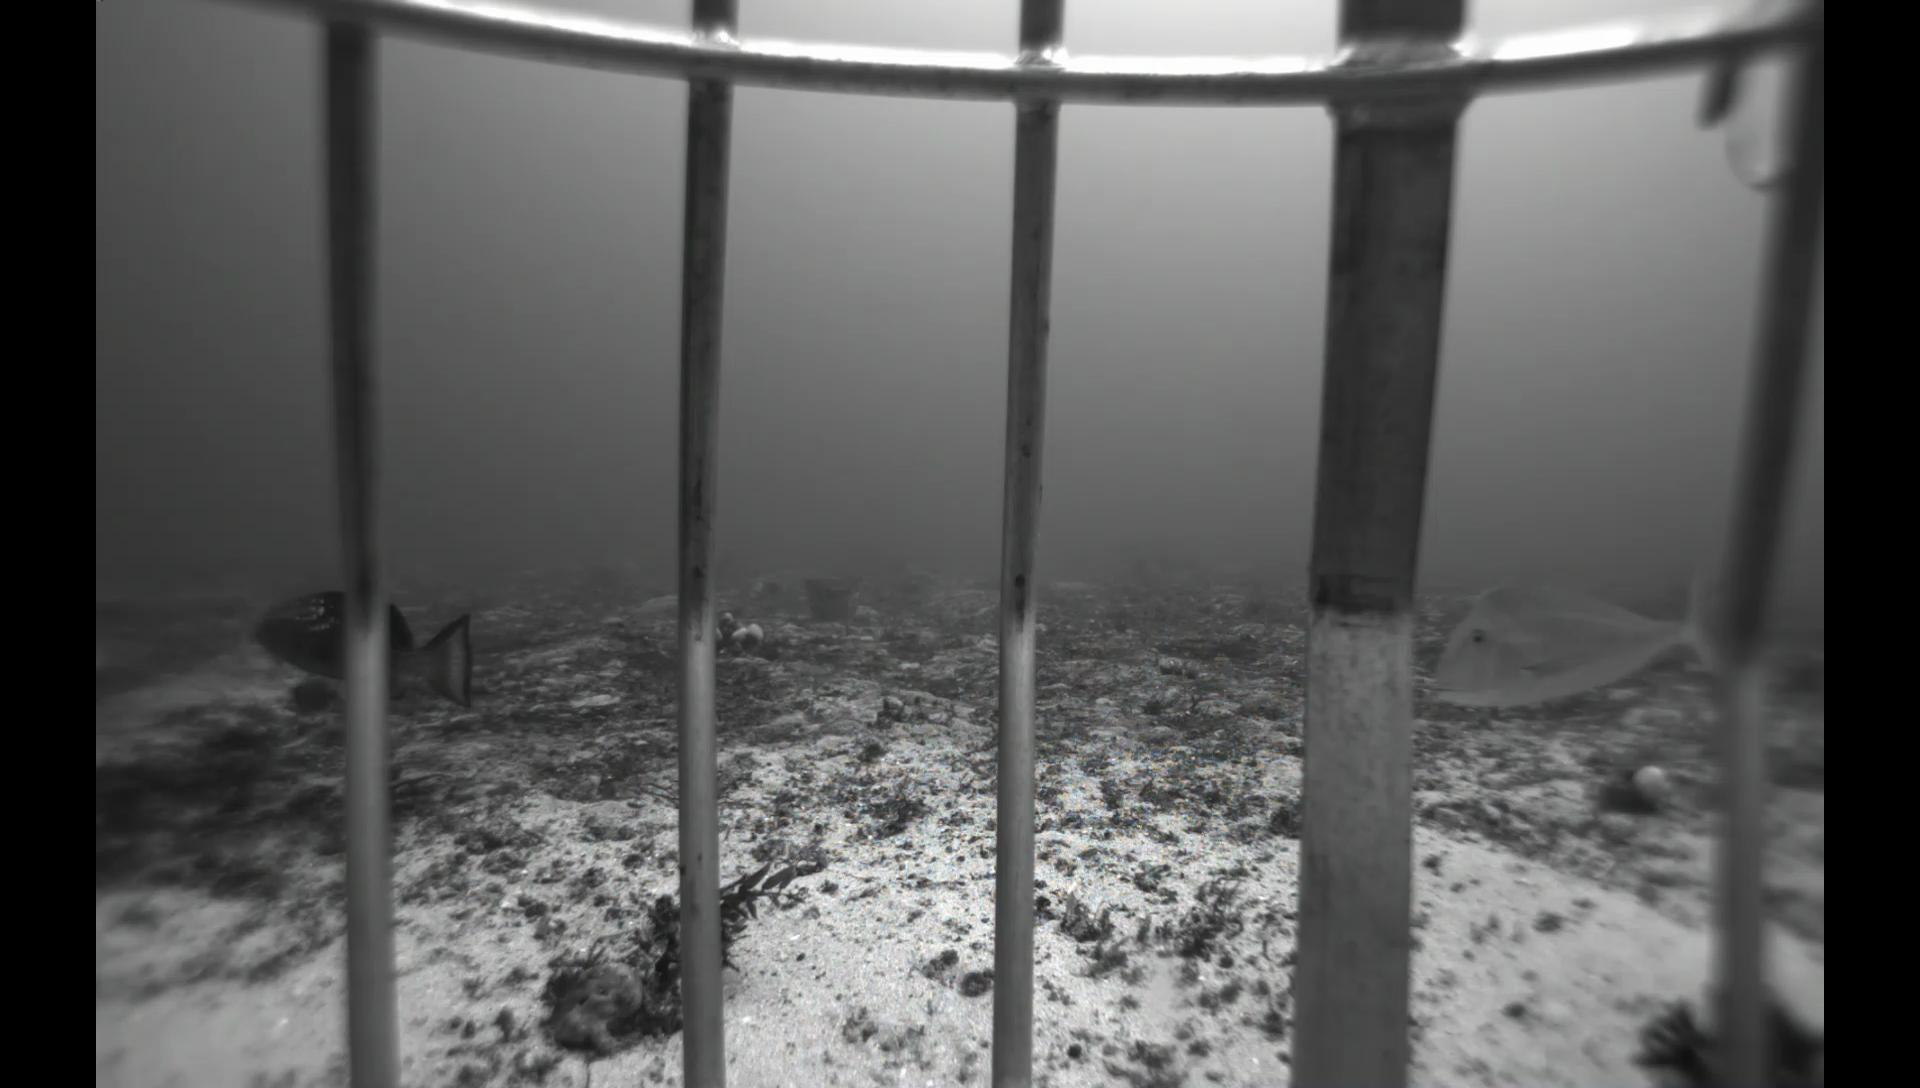CALAMUSNODOSUS-170210608: (1419, 539, 1725, 725)
CHAETODONOCELLATUS-170260307: (742, 580, 766, 600), (957, 575, 976, 587)
EPINEPHELUSMORIO-170021211: (233, 575, 491, 717)
PRISTIGENYSALTA-170050401: (276, 675, 343, 717)
